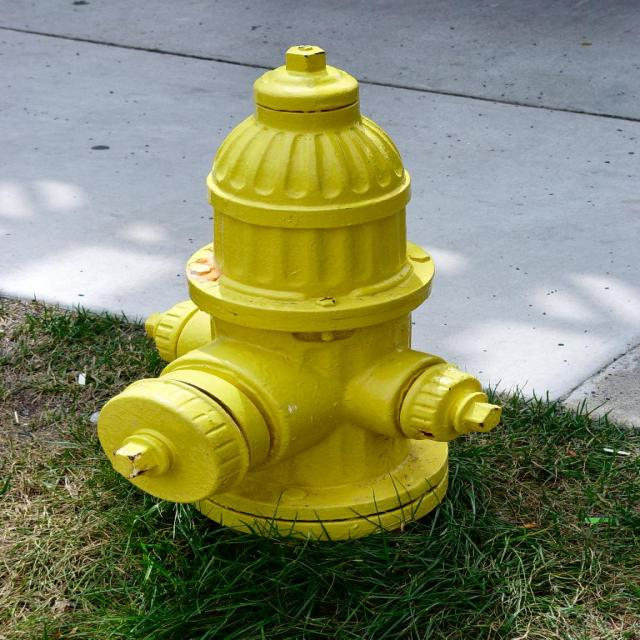fire_hydrant: (93, 46, 500, 542)
